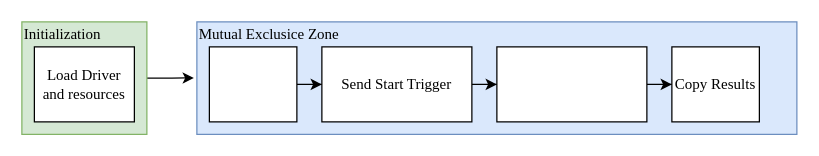
Image size: 819x156. Some labels were removed from this diagram. Each missing label, with the centre of its shape:
"Block, until finish Interrupt occurs" belongs at (571,84).
"Copy Data" belongs at (252,84).
